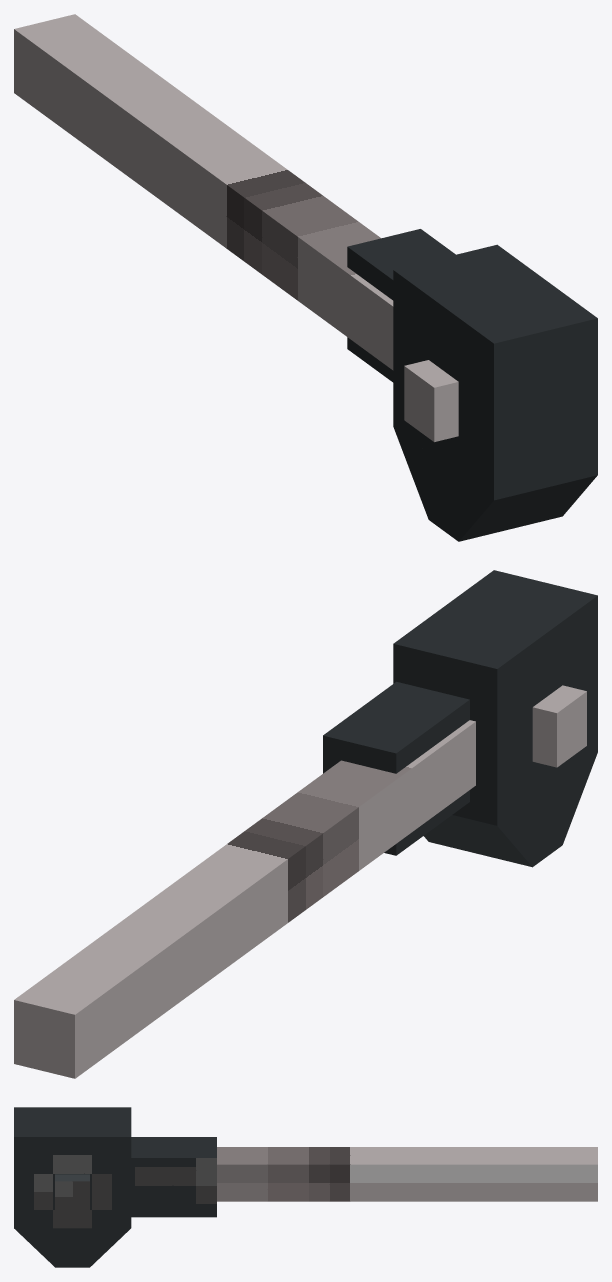
Rendered from crosshead.obj.
The picture shows the model from 3 angles, top to bottom: view 1: azimuth 30°, elevation 25°; view 2: azimuth 150°, elevation 25°; view 3: azimuth 270°, elevation 25°; orthographic projection. The views are drawn at different scales.
Parts seen in each view (by area): view 1: cube; view 2: cube; view 3: cube.
Part boxes in pixels (x1,y1,x2,y2): cube: [14, 14, 597, 541]; cube: [14, 570, 597, 1078]; cube: [14, 1107, 597, 1267].
Size of the model in its own units: 0.3125 by 0.4375 by 1.78.
